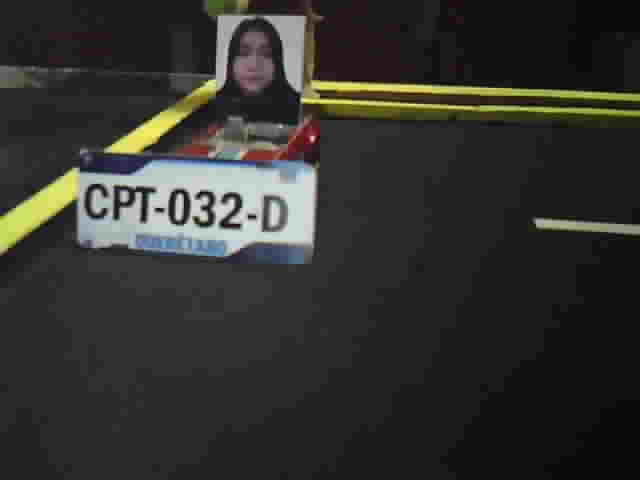PLACA: (75, 147, 322, 272)
ROSTRO: (217, 15, 300, 126)
